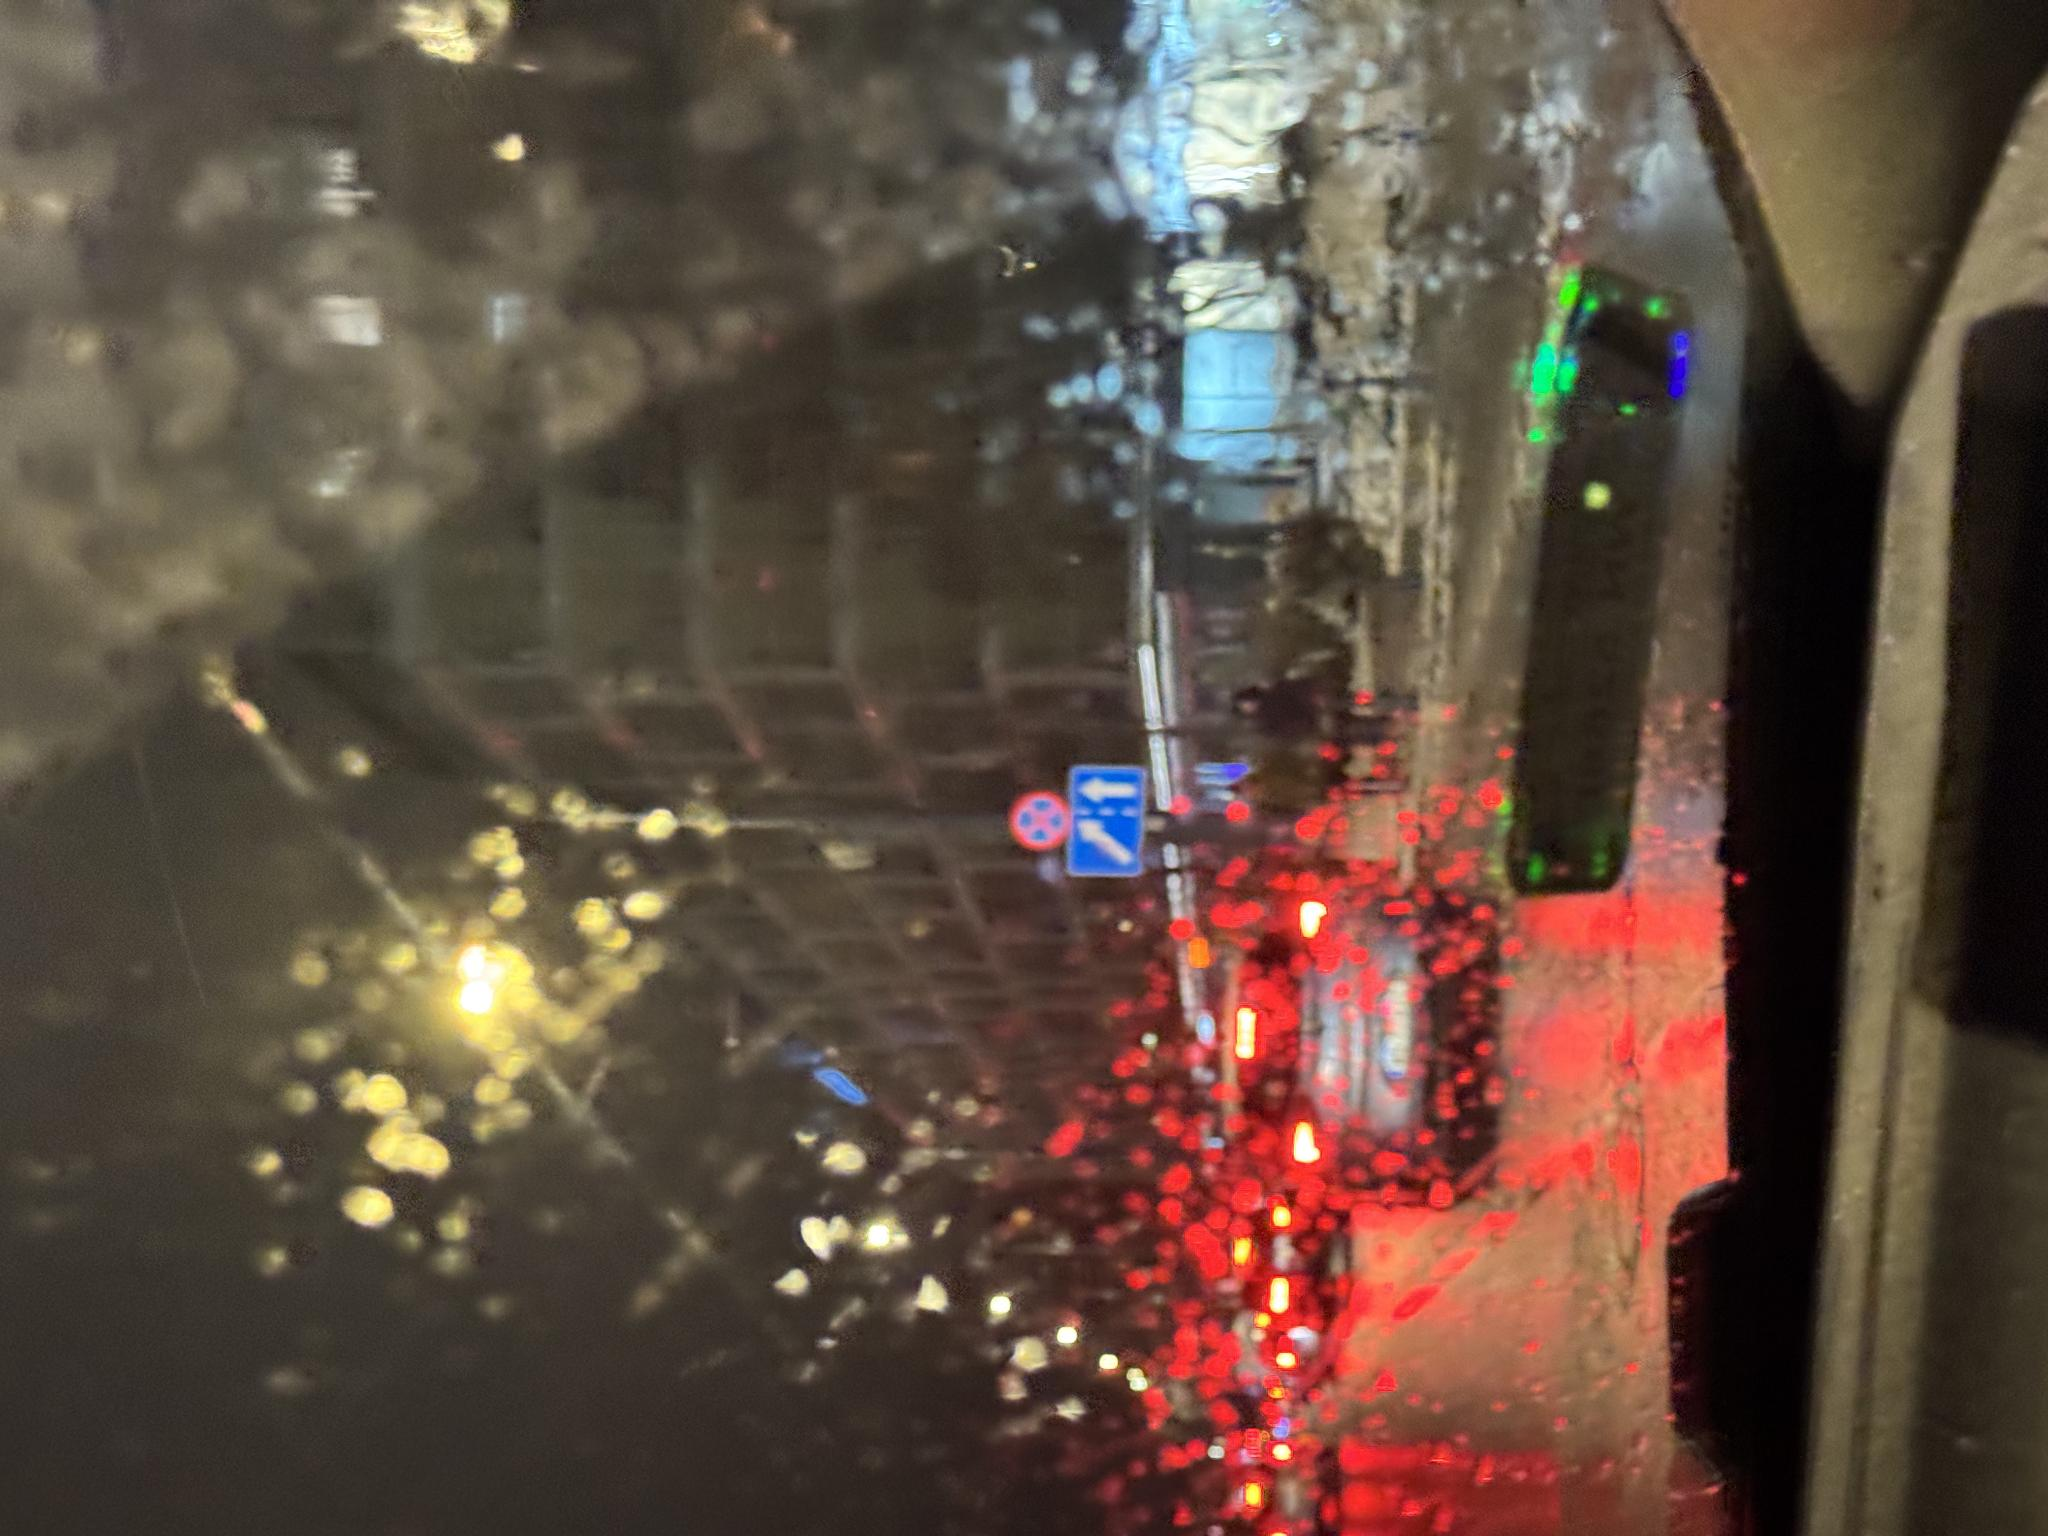other: (658, 1066, 774, 1146)
prohibitory: (684, 1008, 747, 1071)
